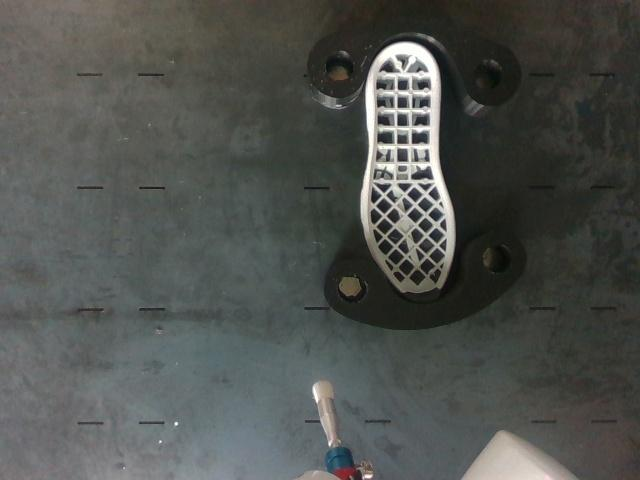shoes: (367, 43, 454, 302)
